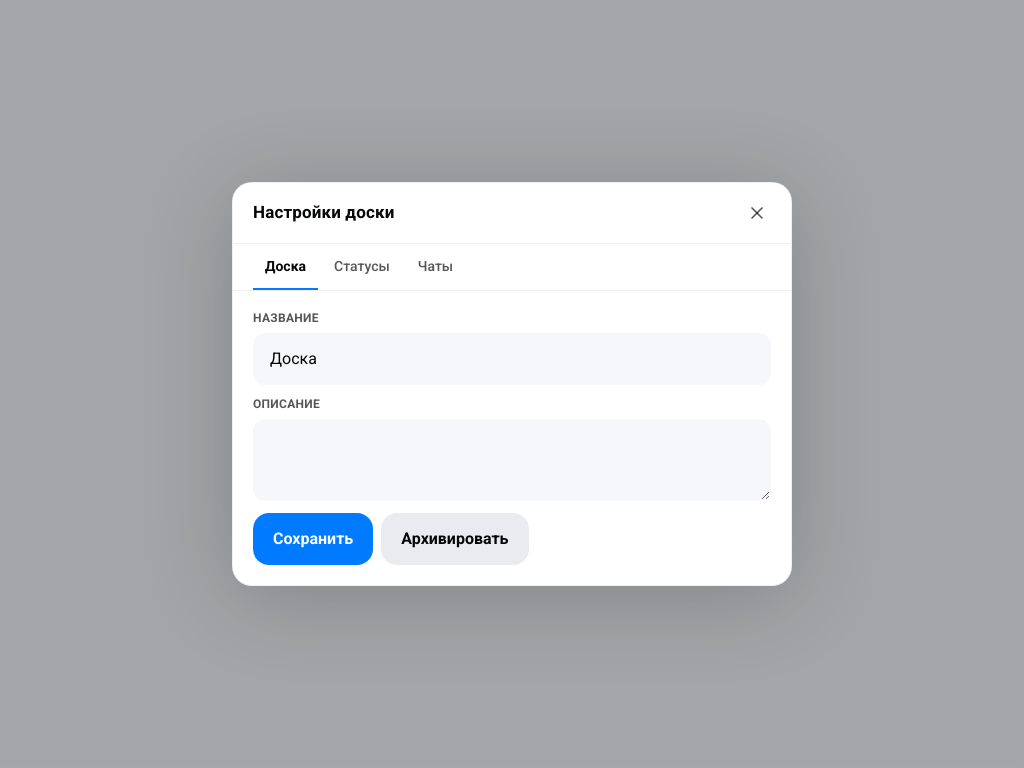
Test: BoardSettings › показывает предупреждение при удалении занятого статуса
Click the tab "Статусы": (362, 267) [322,244,402,290]
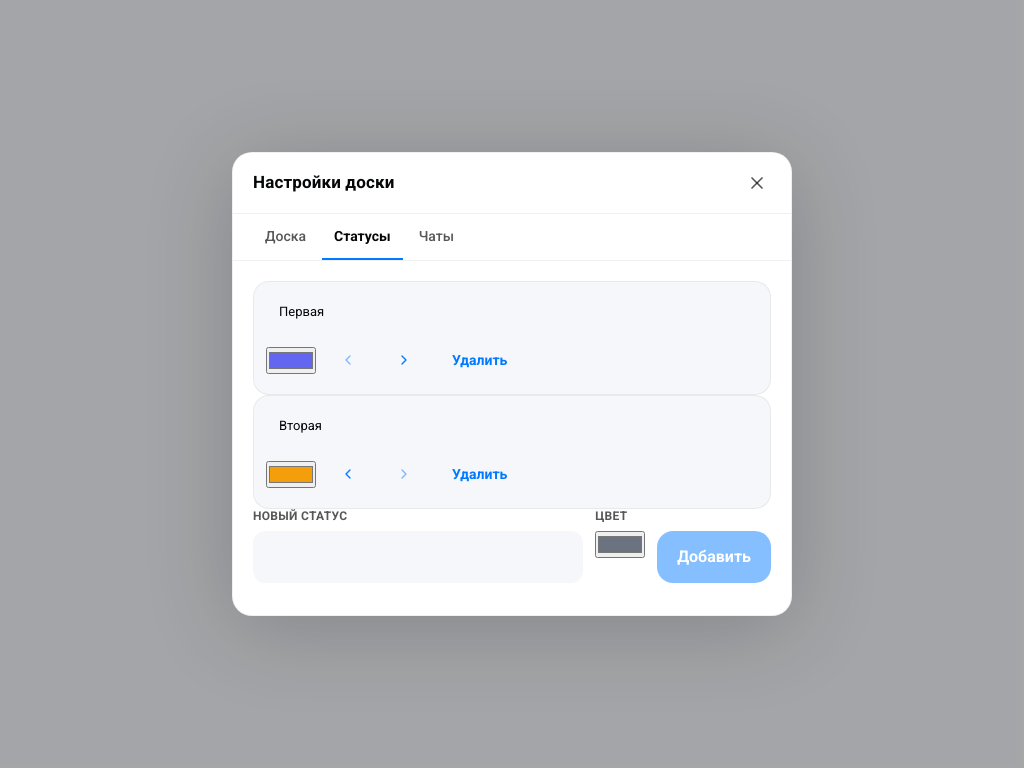
Click the 1st button "Удалить": (480, 360) [436,340,523,380]
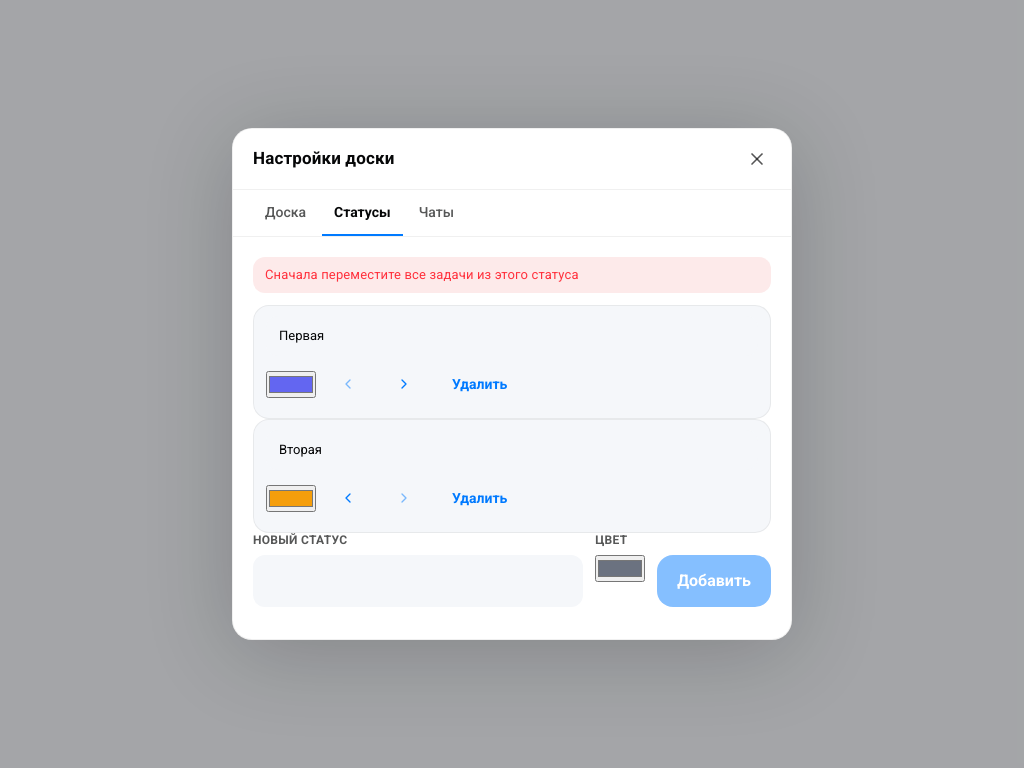
Result: the text "Сначала переместите все задачи из этого статуса" is shown at [253,257,771,293]
